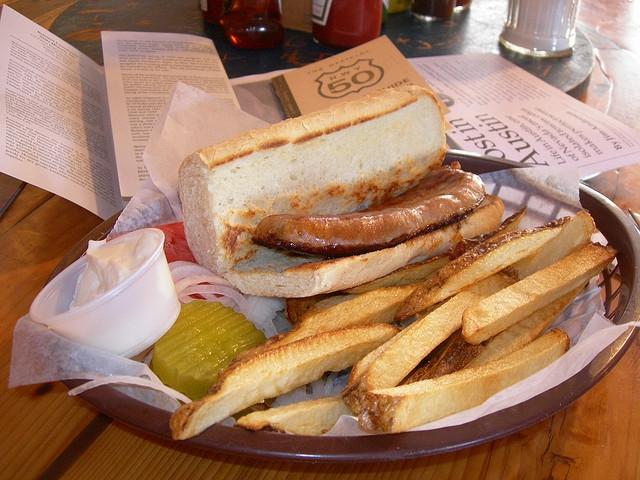onion: (177, 284, 250, 314), (174, 274, 243, 294), (171, 266, 217, 284)
